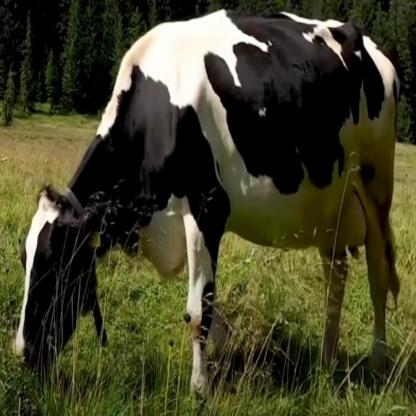cow: (13, 9, 402, 399)
